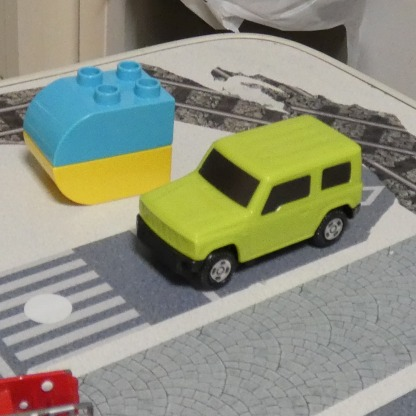car: (135, 115, 365, 295)
